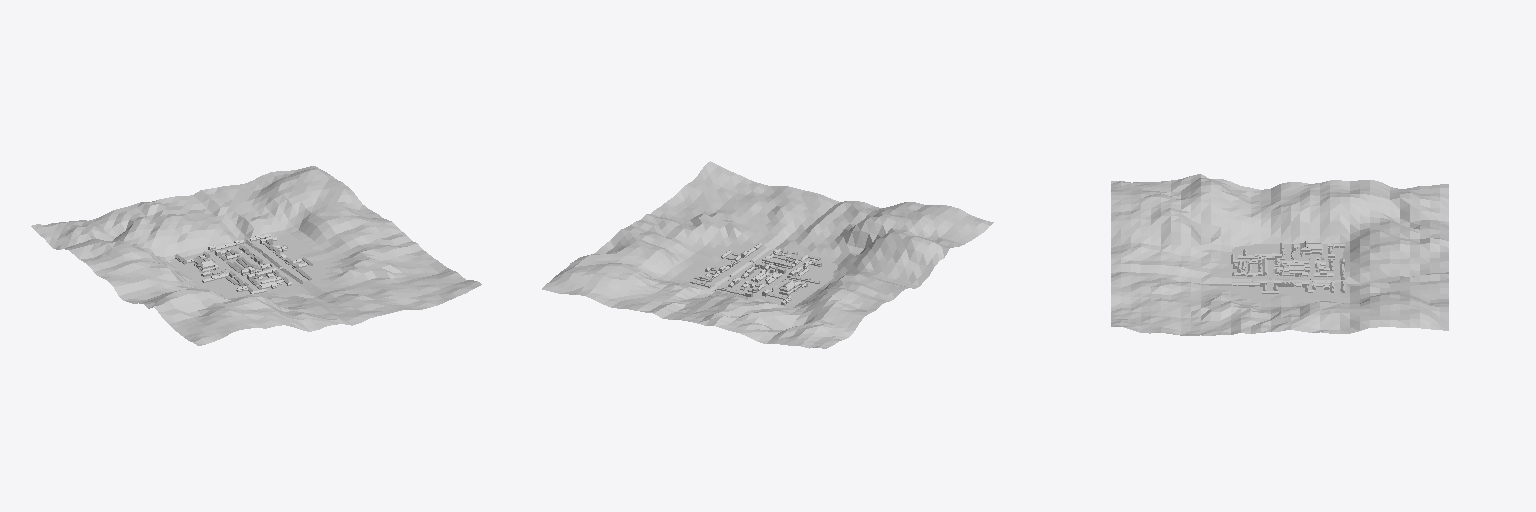
The model's file is terrain-collision.obj.
The picture shows the model from 3 angles: view 1: azimuth 30°, elevation 25°; view 2: azimuth 150°, elevation 25°; view 3: azimuth 270°, elevation 25°; orthographic projection.
Parts seen in each view (by area): view 1: 人里　ver0.77_mesh_人里　ver0.77; view 2: 人里　ver0.77_mesh_人里　ver0.77; view 3: 人里　ver0.77_mesh_人里　ver0.77.
Part boxes in pixels (bbox=[...]): 人里　ver0.77_mesh_人里　ver0.77: bbox=[31, 166, 481, 345]; 人里　ver0.77_mesh_人里　ver0.77: bbox=[542, 161, 993, 348]; 人里　ver0.77_mesh_人里　ver0.77: bbox=[1111, 174, 1448, 335].
Bounding box in the file's own units: 581 × 70.34 × 598.